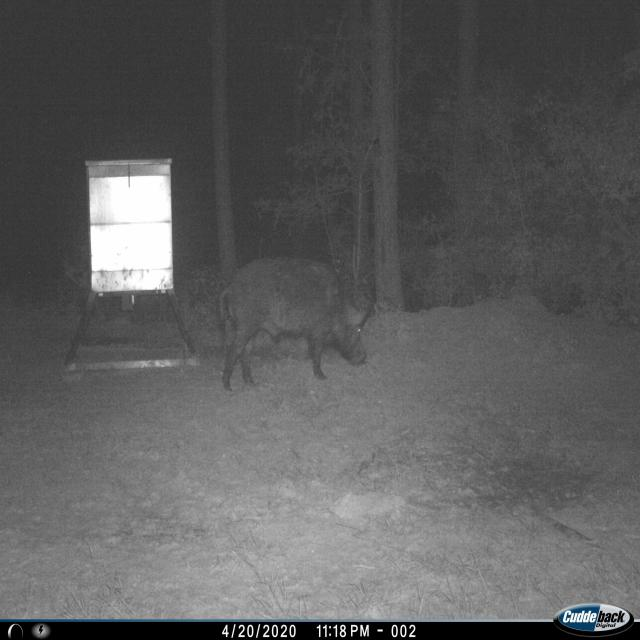wild boar: (215, 253, 376, 396)
